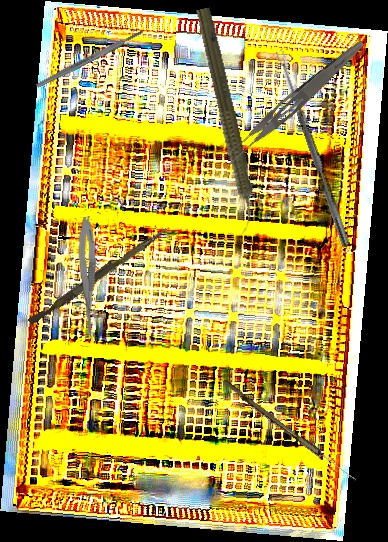Dressing Forceps: (220, 33, 368, 169)
Handpiece: (187, 6, 265, 235)
Micro Scissor: (76, 216, 101, 342)
Pusher: (27, 222, 169, 329)
Scalpel Handle: (34, 28, 145, 90)
Surgical Spoon: (275, 49, 352, 248), (220, 379, 359, 483)
